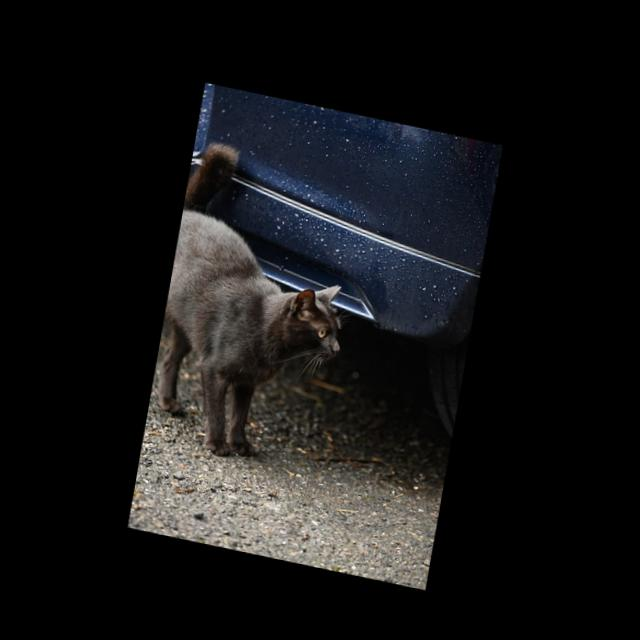animals: (144, 136, 371, 476)
